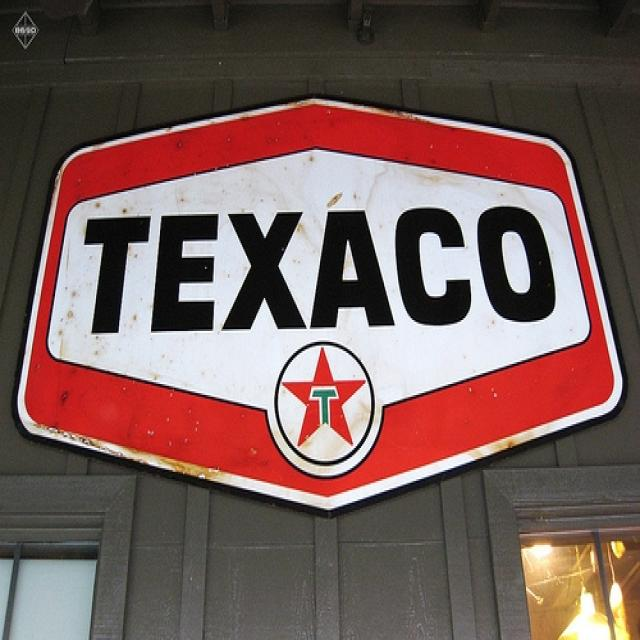texaco: (279, 343, 373, 465)
